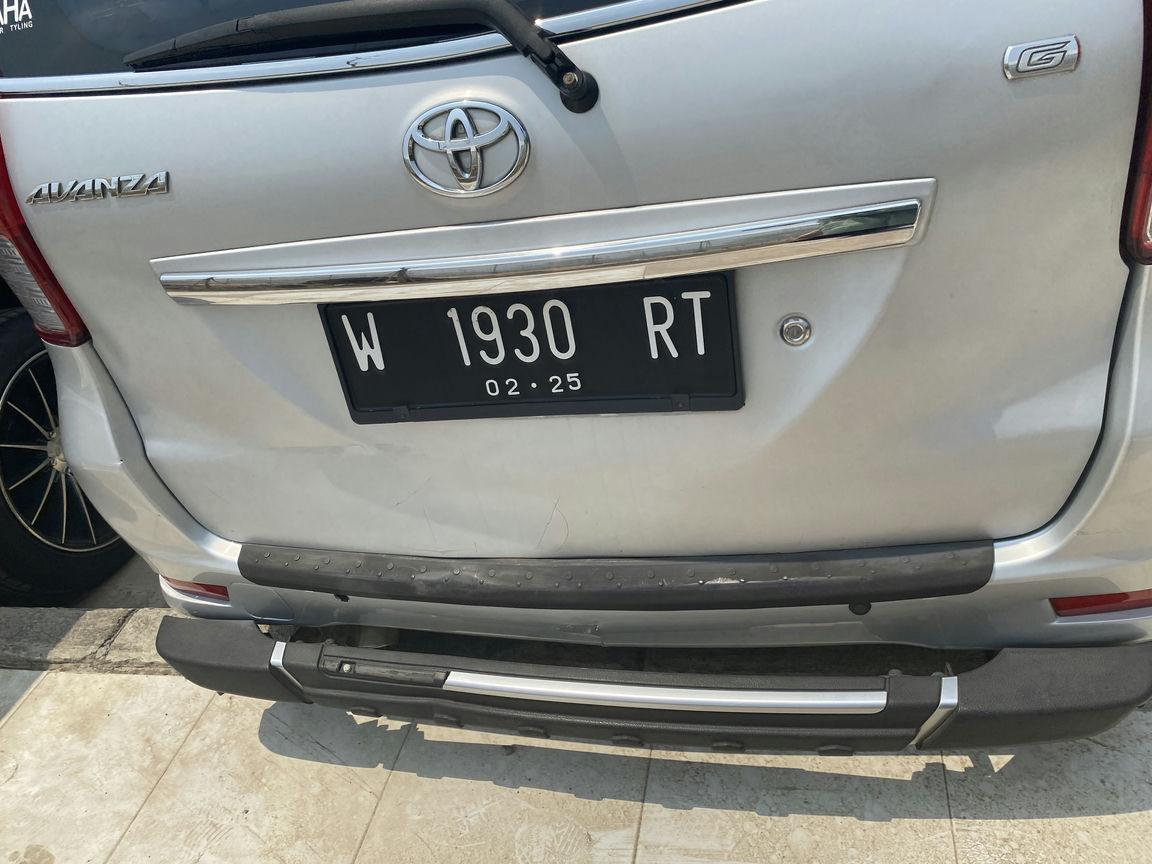plat: (323, 272, 745, 423)
